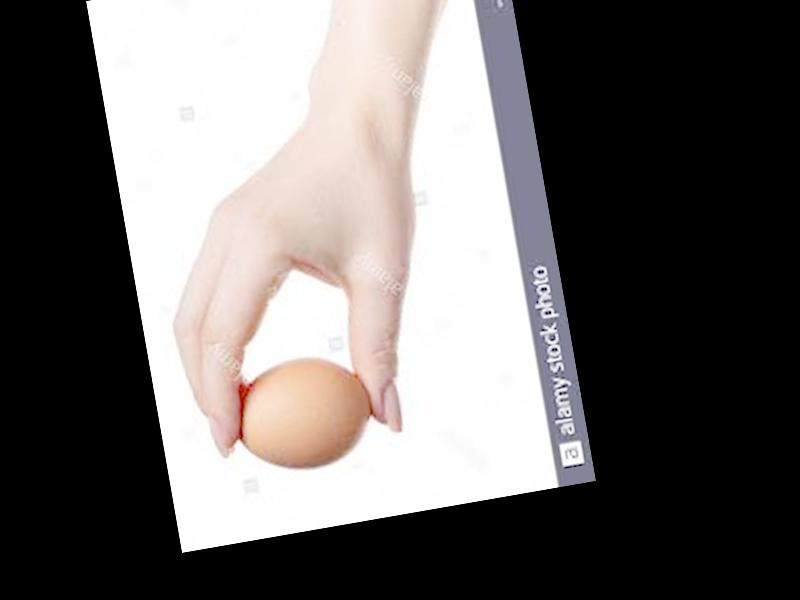Eggs: (227, 343, 379, 480)
